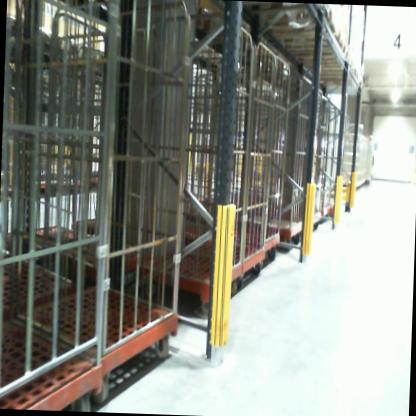pallet: (202, 3, 340, 39), (266, 30, 355, 68), (278, 62, 364, 95)
